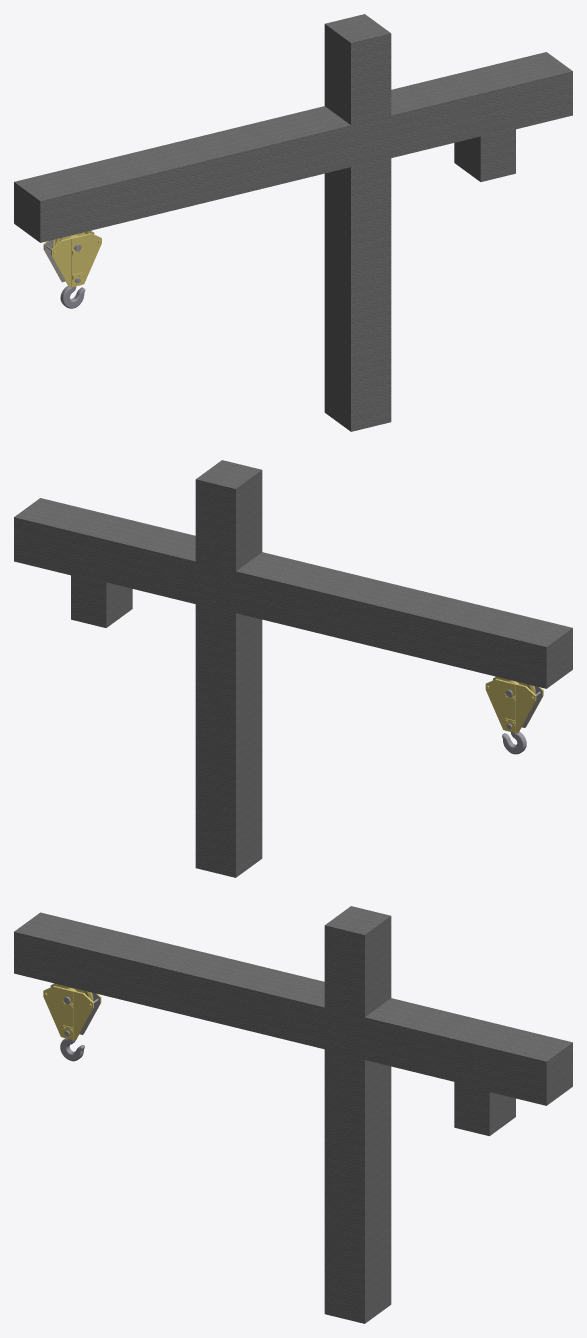
The model's file is CPT Crane Latest Crane Model.3ds (1).glb.
The picture shows the model from 3 angles, top to bottom: view 1: azimuth 30°, elevation 25°; view 2: azimuth 150°, elevation 25°; view 3: azimuth 330°, elevation 25°; orthographic projection.
Parts seen in each view (by area): view 1: Model, Group5; view 2: Model, Group5; view 3: Model, Group5.
Boxes of the visible parts, x1,y1,x2,y2 form: Model: (14, 14, 572, 431); Group5: (43, 231, 101, 287); Model: (14, 460, 572, 877); Group5: (485, 677, 543, 733); Model: (14, 906, 572, 1323); Group5: (43, 984, 101, 1040).
Size of the model in its own units: 227 by 158 by 19.44.
Materials: 56 (1 with a texture image).
